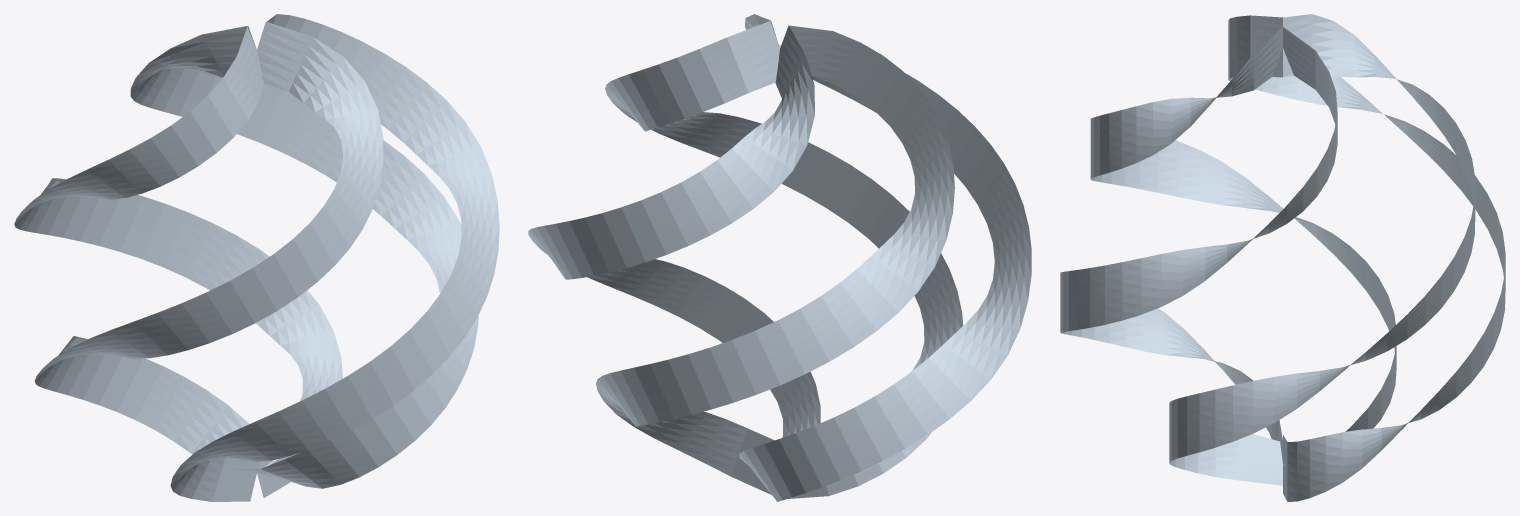
The model's file is 2022_WindBlasts_Projectile.fbx.
The picture shows the model from 3 angles, left to right: view 1: azimuth 30°, elevation 25°; view 2: azimuth 150°, elevation 25°; view 3: azimuth 270°, elevation 25°; orthographic projection.
Parts seen in each view (by area): view 1: PART_WindProjectileCurl1, PART_WindProjectileCurl2, PART_WindProjectileCurl0, PART_WindProjectileCurl3; view 2: PART_WindProjectileCurl0, PART_WindProjectileCurl3, PART_WindProjectileCurl1, PART_WindProjectileCurl2; view 3: PART_WindProjectileCurl3, PART_WindProjectileCurl1, PART_WindProjectileCurl2, PART_WindProjectileCurl0.
Part boxes in pixels (bbox=[...]): PART_WindProjectileCurl1: bbox=[34, 21, 383, 466]; PART_WindProjectileCurl2: bbox=[170, 14, 499, 501]; PART_WindProjectileCurl0: bbox=[14, 27, 342, 497]; PART_WindProjectileCurl3: bbox=[130, 26, 478, 488]; PART_WindProjectileCurl0: bbox=[596, 25, 954, 494]; PART_WindProjectileCurl3: bbox=[528, 25, 820, 437]; PART_WindProjectileCurl1: bbox=[739, 14, 1031, 501]; PART_WindProjectileCurl2: bbox=[605, 21, 963, 498]; PART_WindProjectileCurl3: bbox=[1169, 14, 1475, 485]; PART_WindProjectileCurl1: bbox=[1090, 26, 1396, 465]; PART_WindProjectileCurl2: bbox=[1060, 27, 1337, 462]; PART_WindProjectileCurl0: bbox=[1228, 15, 1505, 501].
Bounding box in the file's own units: 92.32 × 94.51 × 81.36.
